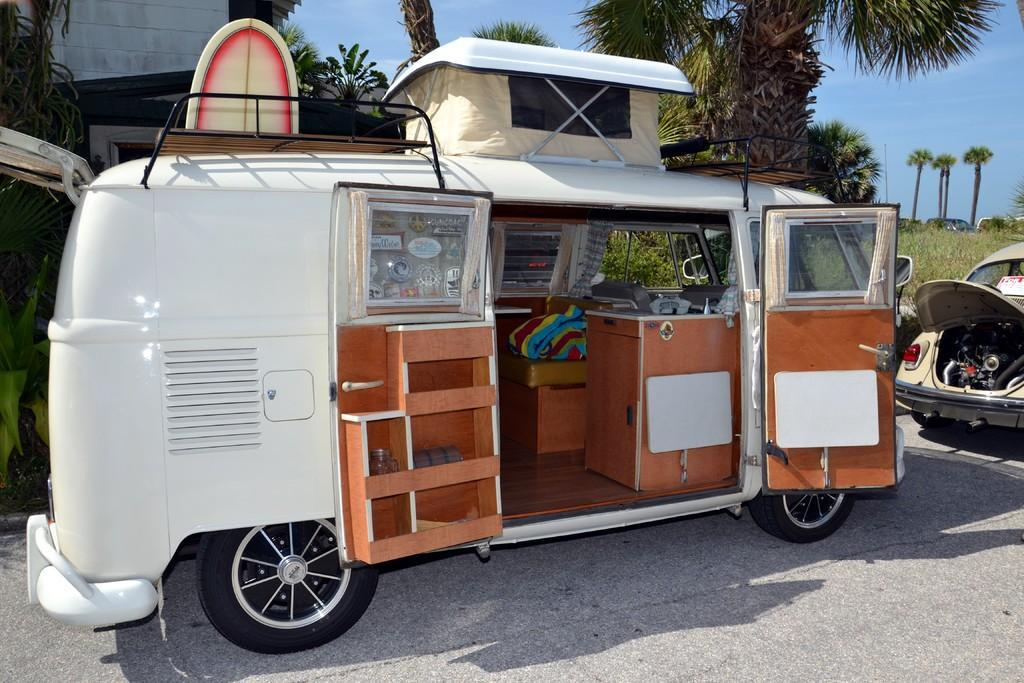door: (327, 196, 487, 535), (770, 212, 900, 492)
handle: (858, 338, 896, 362), (343, 374, 383, 391)
